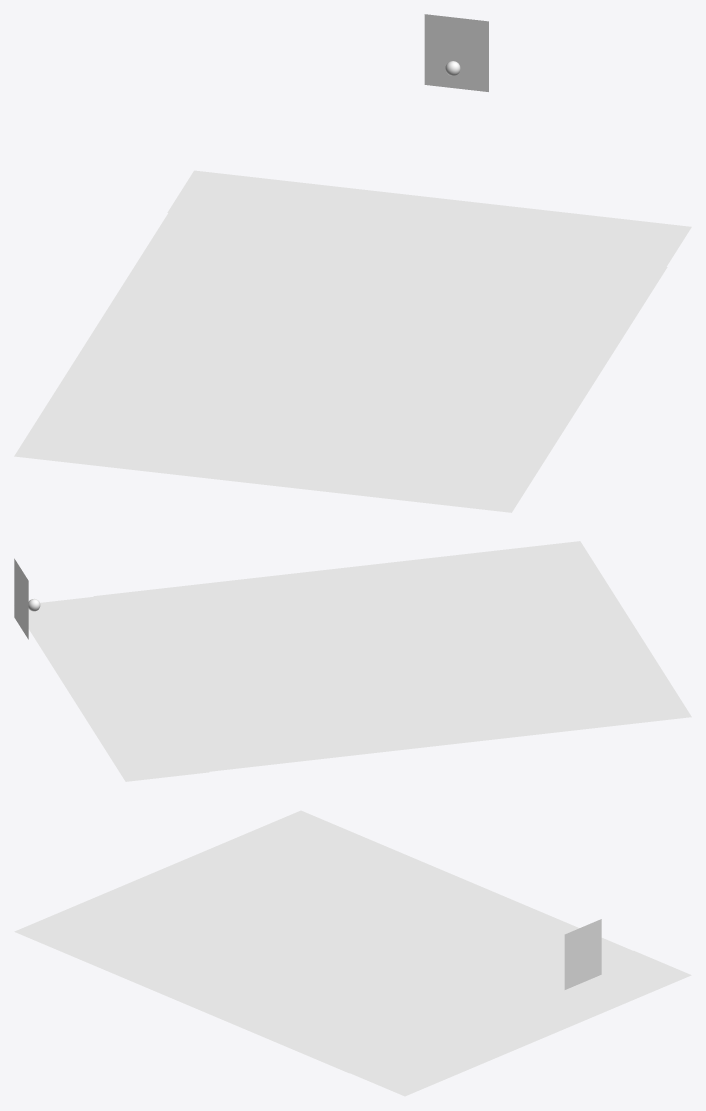
The model's file is BG Sky.fbx.
The picture shows the model from 3 angles, top to bottom: view 1: azimuth 30°, elevation 25°; view 2: azimuth 150°, elevation 25°; view 3: azimuth 270°, elevation 25°; orthographic projection. The views are drawn at different scales.
Parts seen in each view (by area): view 1: Plane (11), Plane (10), Moon_Light; view 2: Plane (11), Plane (10), Moon_Light; view 3: Plane (11), Plane (10), Moon_Light.
Boxes of the visible parts, x1,y1,x2,y2 form: Plane (11): (14,210,667,512); Plane (10): (167,170,691,266); Moon_Light: (424,14,488,91); Plane (11): (93,541,691,772); Plane (10): (28,596,209,781); Moon_Light: (14,558,28,639); Plane (11): (14,810,635,1073); Plane (10): (350,951,691,1096); Moon_Light: (564,919,601,989).
Size of the model in its own units: 206 by 41.24 by 206.
